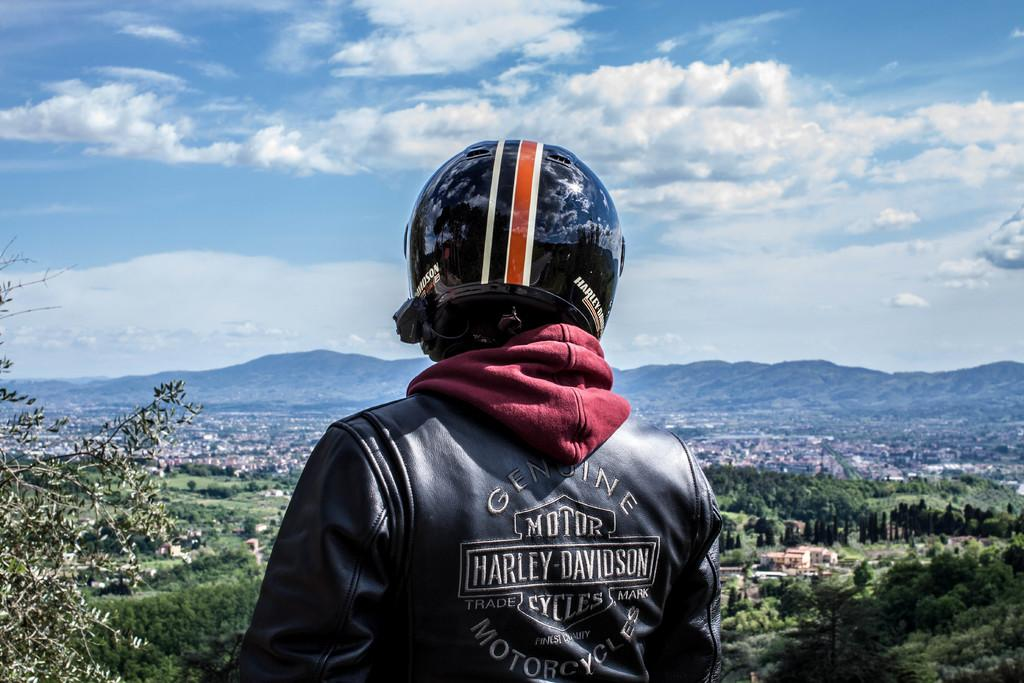helmet: (403, 139, 626, 363)
